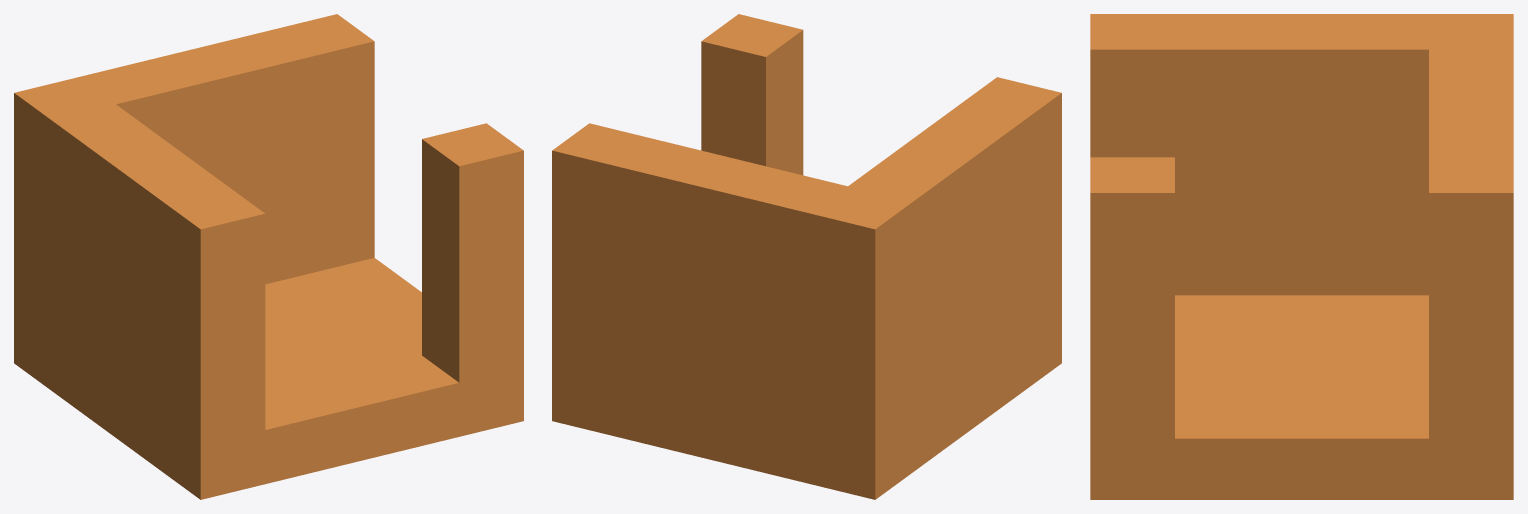
File: Tunnel Box Turn.glb
The picture shows the model from 3 angles, left to right: view 1: azimuth 30°, elevation 25°; view 2: azimuth 150°, elevation 25°; view 3: azimuth 270°, elevation 25°; orthographic projection. The views are drawn at different scales.
Parts seen in each view (by area): view 1: Turn; view 2: Turn; view 3: Turn.
Part boxes in pixels (<box>): Turn: <box>14,14,523,499</box>; Turn: <box>552,14,1061,499</box>; Turn: <box>1090,14,1513,499</box>.
Bounding box in the file's own units: 10 × 8 × 10.
